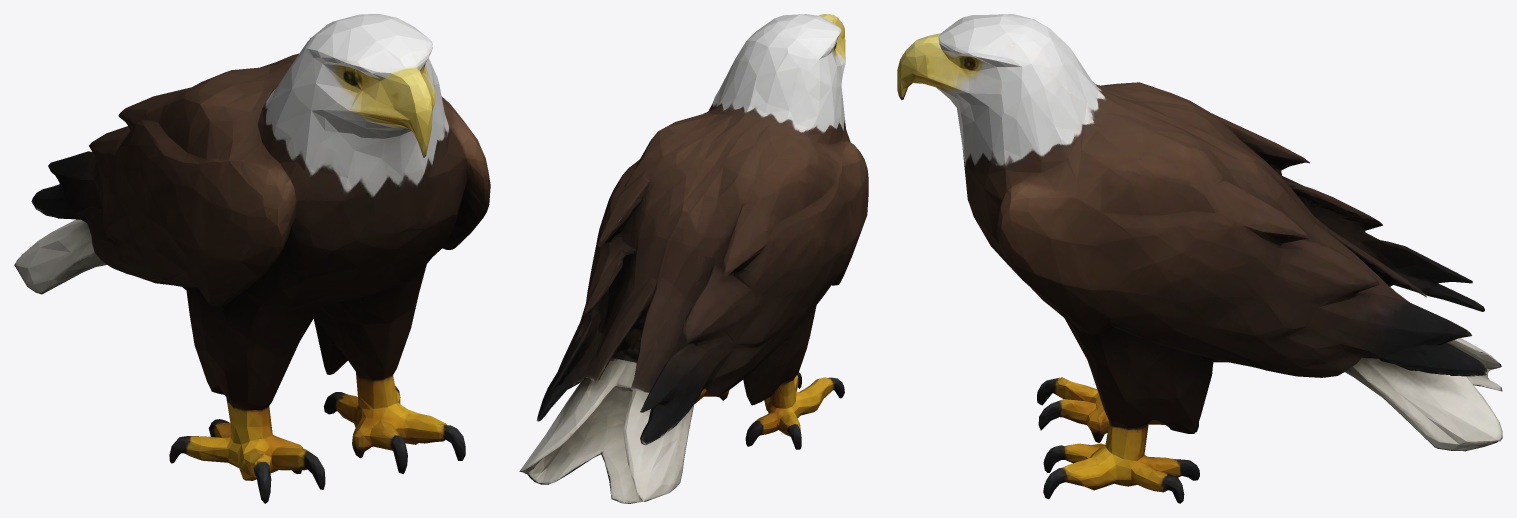
File: bald_eagle.glb
3 renders of one model, left to right at view 1: azimuth 30°, elevation 25°; view 2: azimuth 150°, elevation 25°; view 3: azimuth 270°, elevation 25°, orthographic. The views are drawn at different scales.
Visible parts, largest first — view 1: world; view 2: world; view 3: world.
Part boxes in pixels (bbox=[...]): world: bbox=[14, 14, 490, 503]; world: bbox=[519, 14, 868, 503]; world: bbox=[897, 14, 1502, 503].
Size of the model in its own units: 0.4679 by 0.7686 by 0.9788.
1 material, 1 textured.
